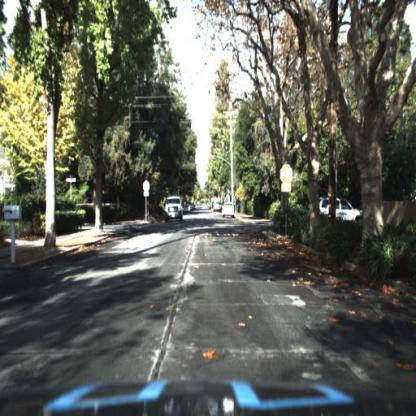car: (320, 189, 364, 231), (163, 193, 185, 224), (221, 200, 237, 220), (221, 198, 235, 215)
